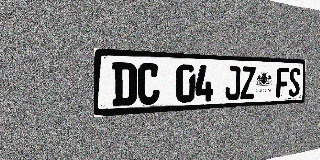0: (176, 64, 195, 103)
4: (195, 65, 214, 102)
C: (137, 63, 160, 105)
D: (112, 62, 137, 106)
F: (276, 67, 289, 98)
J: (225, 66, 241, 100)
S: (288, 67, 300, 97)
Z: (240, 66, 256, 100)
